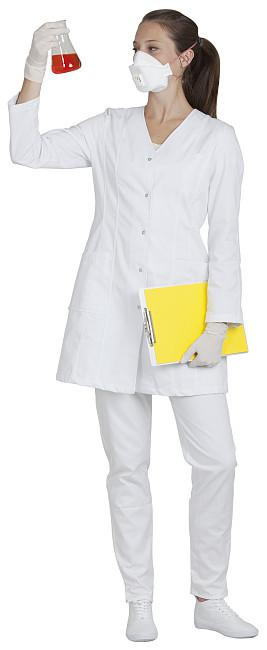OK: (126, 32, 187, 93)
